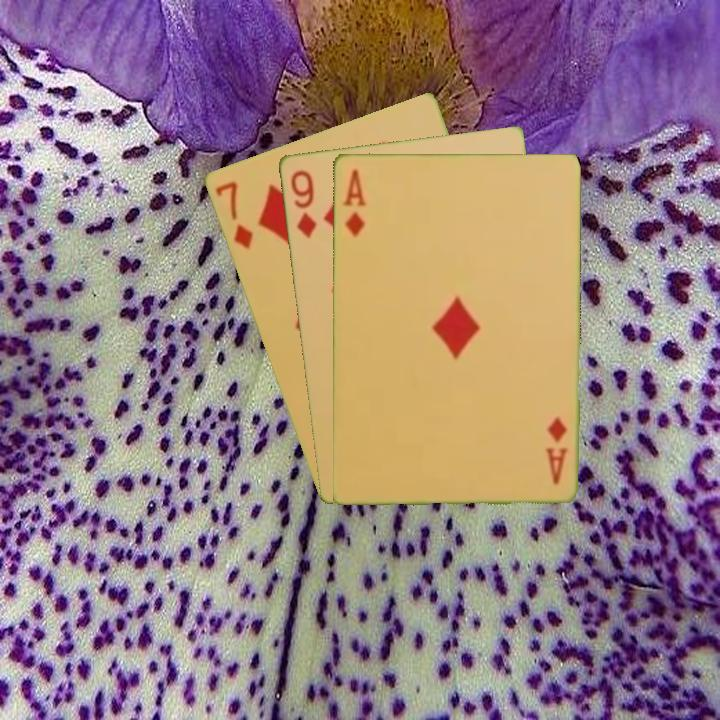7d: (211, 178, 256, 252)
9d: (286, 166, 319, 241)
Ad: (338, 165, 368, 239), (542, 412, 571, 487)
